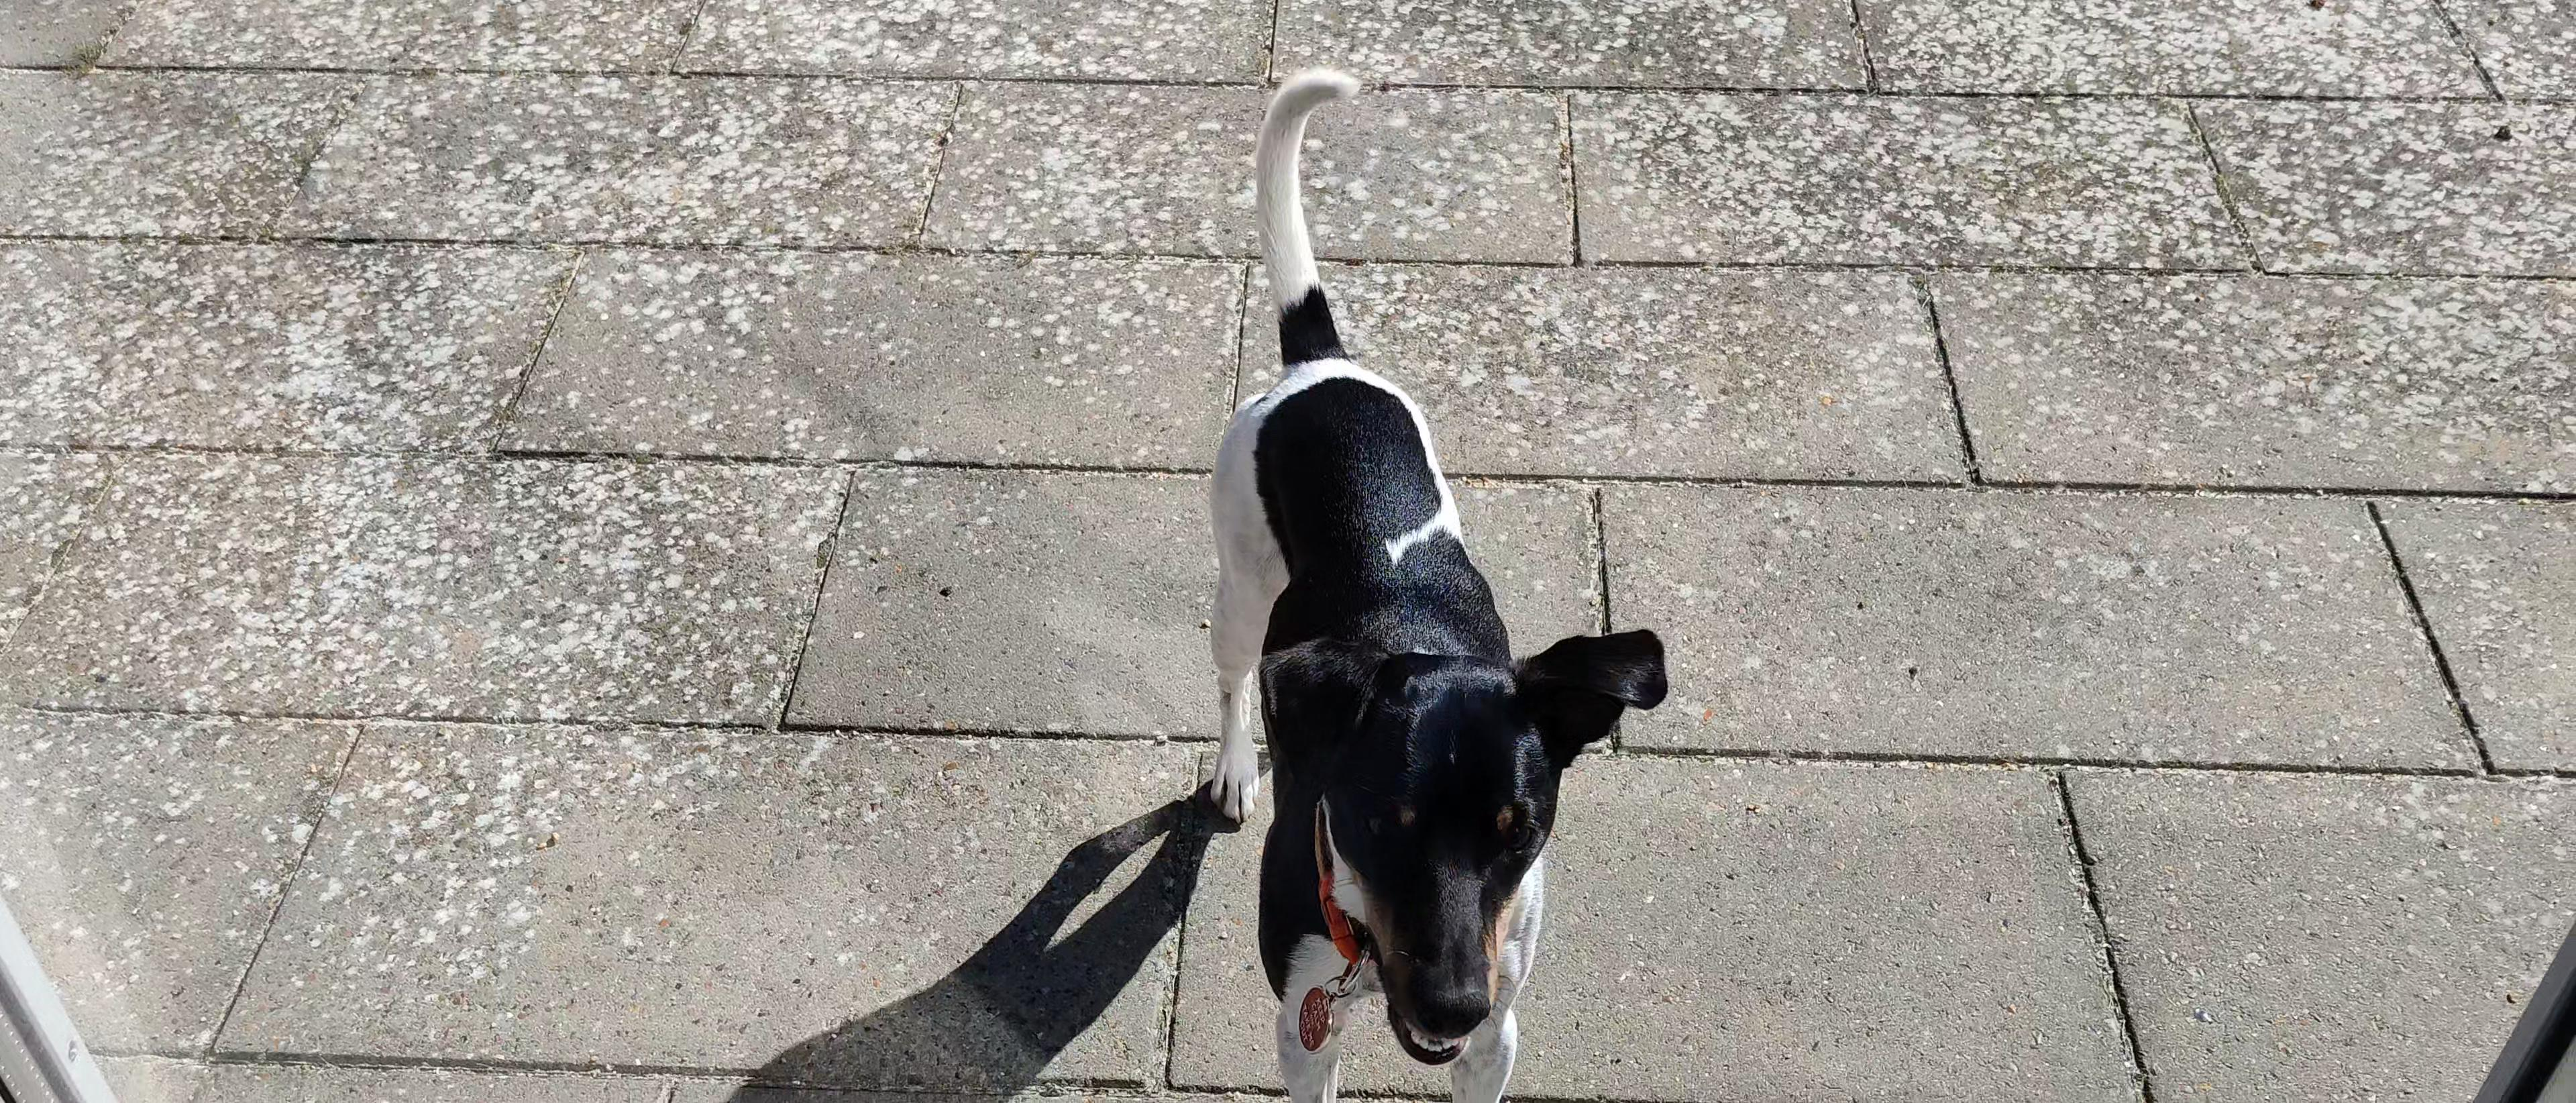Dog: (1176, 54, 1684, 1103)
